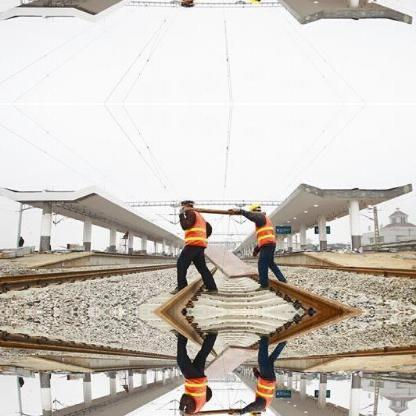helmet: (180, 194, 195, 205), (248, 201, 262, 212)
